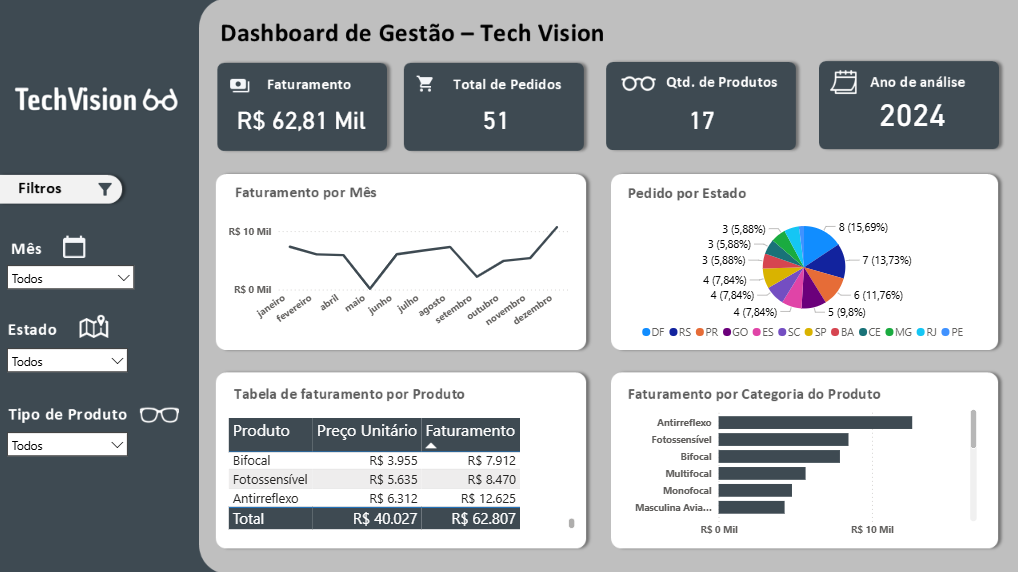

The page's visual inventory and layout, read from the dashboard file:
{"tool":"powerbi","page":{"name":"Página 1","canvas":[1280,720],"ordinal":0},"visuals":[{"type":"tableEx","fields":{"Values":["pedidos.Produto","Sum(pedidos.Preço Unitário)","Sum(pedidos.Faturamento)"]},"box":[281.8,517.3,443.6,149.1],"z":0},{"type":"lineChart","title":"Faturamento por Mês","fields":{"Y":["Sum(pedidos.Faturamento)"],"Category":["pedidos.Data da Compra.Variation.Hierarquia de datas.Mês"]},"box":[281.8,239.1,434.5,187.3],"z":1000},{"type":"pieChart","title":"Pedido por Estado","fields":{"Y":["pedidos.CountPedido"],"Category":["pedidos.Estado"]},"box":[785.5,251.8,448.2,185.5],"z":2000},{"type":"clusteredBarChart","title":"Faturamento por Categoria do Produto","fields":{"Y":["Sum(pedidos.Faturamento)"],"Category":["pedidos.Produto"]},"box":[772.5,498.8,472.5,182.5],"z":3000},{"type":"card","fields":{"Values":["Sum(pedidos.Valor Total do Pedido)"]},"box":[286,106,183,85],"z":4000},{"type":"card","fields":{"Values":["Count(pedidos.ID do Pedido)"]},"box":[525,116.2,191.2,65],"z":5000},{"type":"card","fields":{"Values":["Count(pedidos.Produto)"]},"box":[772.5,93.8,211.2,110],"z":6000},{"type":"slicer","fields":{"Values":["pedidos.Data da Compra.Variation.Hierarquia de datas.Mês"]},"box":[0,302.7,179.1,70],"z":7000},{"type":"slicer","fields":{"Values":["pedidos.Estado"]},"box":[0,406.2,171.2,72.5],"z":8000},{"type":"textbox","box":[1095,116.2,105,56.2],"z":9001},{"type":"slicer","fields":{"Values":["pedidos.Produto"]},"box":[0,510.9,170.9,72.7],"z":9002}]}

Visuals, with their boxes in screenshot pixels (x1, y1, x2, y2), scaled from the page's 1280x720 canvas onto the 1018x572 screenshot:
tableEx - pedidos.Produto x Sum(pedidos.Preço Unitário): (x1=224, y1=411, x2=577, y2=529)
"Faturamento por Mês" lineChart: (x1=224, y1=190, x2=570, y2=339)
"Pedido por Estado" pieChart: (x1=625, y1=200, x2=981, y2=347)
"Faturamento por Categoria do Produto" clusteredBarChart: (x1=614, y1=396, x2=990, y2=541)
card - Sum(pedidos.Valor Total do Pedido): (x1=227, y1=84, x2=373, y2=152)
card - Count(pedidos.ID do Pedido): (x1=418, y1=92, x2=570, y2=144)
card - Count(pedidos.Produto): (x1=614, y1=75, x2=782, y2=162)
slicer - pedidos.Data da Compra.Variation.Hierarquia de datas.Mês: (x1=0, y1=240, x2=142, y2=296)
slicer - pedidos.Estado: (x1=0, y1=323, x2=136, y2=380)
textbox: (x1=871, y1=92, x2=954, y2=137)
slicer - pedidos.Produto: (x1=0, y1=406, x2=136, y2=464)
